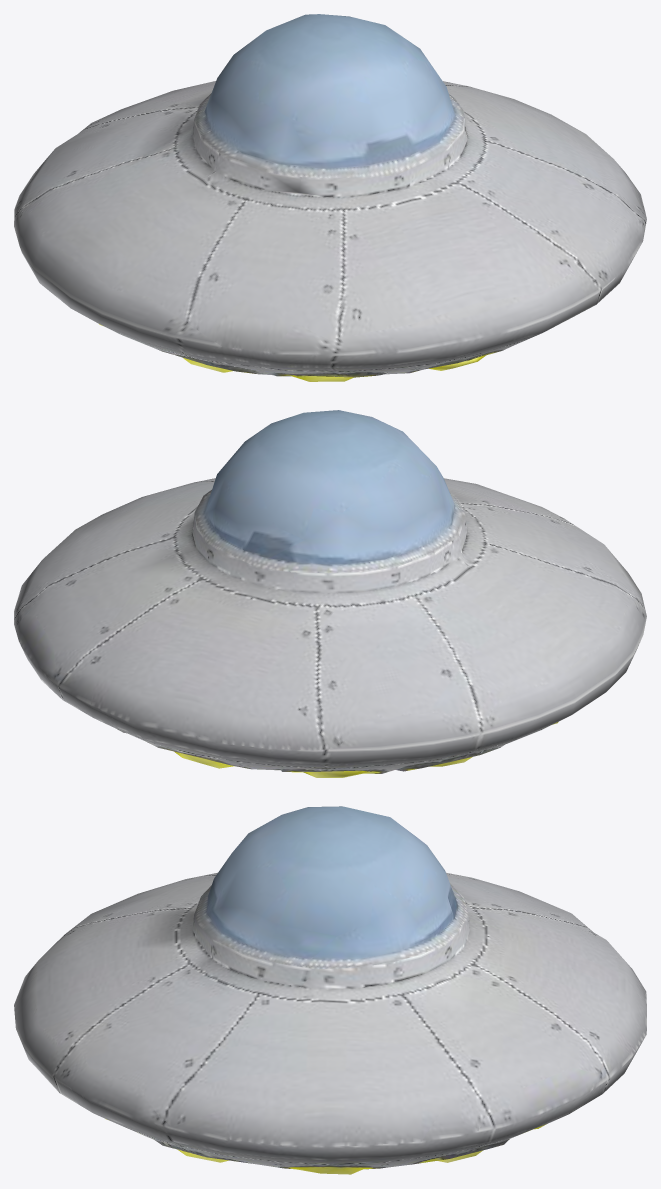
Rendered from ufo.glb.
3 views of the same model, one above another, from view 1: azimuth 30°, elevation 25°; view 2: azimuth 150°, elevation 25°; view 3: azimuth 270°, elevation 25° (orthographic).
Parts seen in each view (by area): view 1: Prop_UFO; view 2: Prop_UFO; view 3: Prop_UFO.
Part boxes in pixels (x1,y1,x2,y2): Prop_UFO: (14, 14, 646, 381); Prop_UFO: (14, 410, 646, 777); Prop_UFO: (14, 806, 646, 1174).
Bounding box in the file's own units: 2.2 × 1.23 × 2.2.
1 material, 1 textured.
